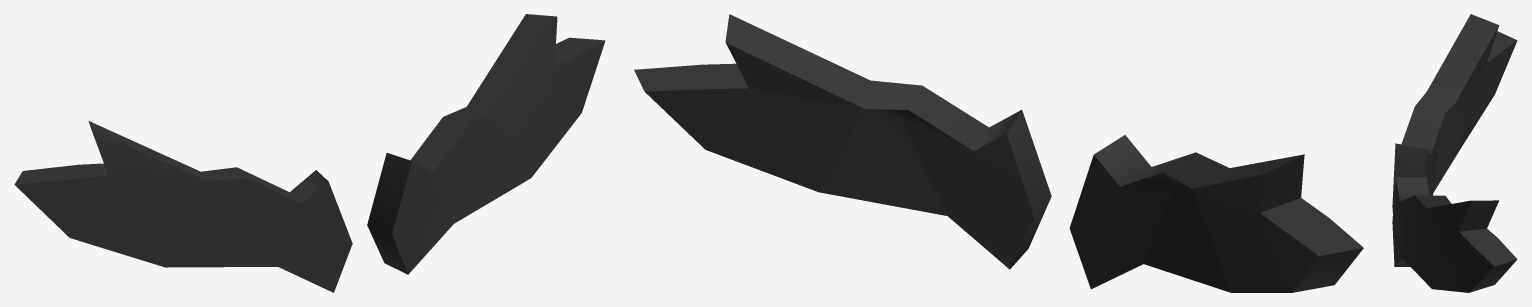
Rendered from Brow_Black_12.fbx.
The picture shows the model from 3 angles, left to right: view 1: azimuth 30°, elevation 25°; view 2: azimuth 150°, elevation 25°; view 3: azimuth 270°, elevation 25°; orthographic projection. The views are drawn at different scales.
Visible parts, largest first — view 1: Brow_Black_12; view 2: Brow_Black_12; view 3: Brow_Black_12.
Part boxes in pixels (bbox=[...]): Brow_Black_12: bbox=[14, 14, 605, 292]; Brow_Black_12: bbox=[634, 14, 1363, 292]; Brow_Black_12: bbox=[1392, 14, 1517, 292].
Size of the model in its own units: 50.7 by 14.59 by 11.32.
